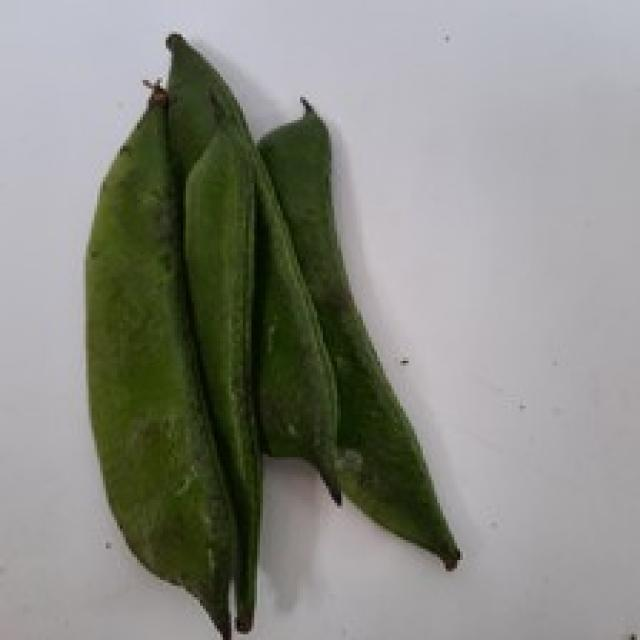Bean: (80, 29, 460, 637), (254, 94, 460, 572), (163, 28, 343, 506), (83, 77, 234, 637)
